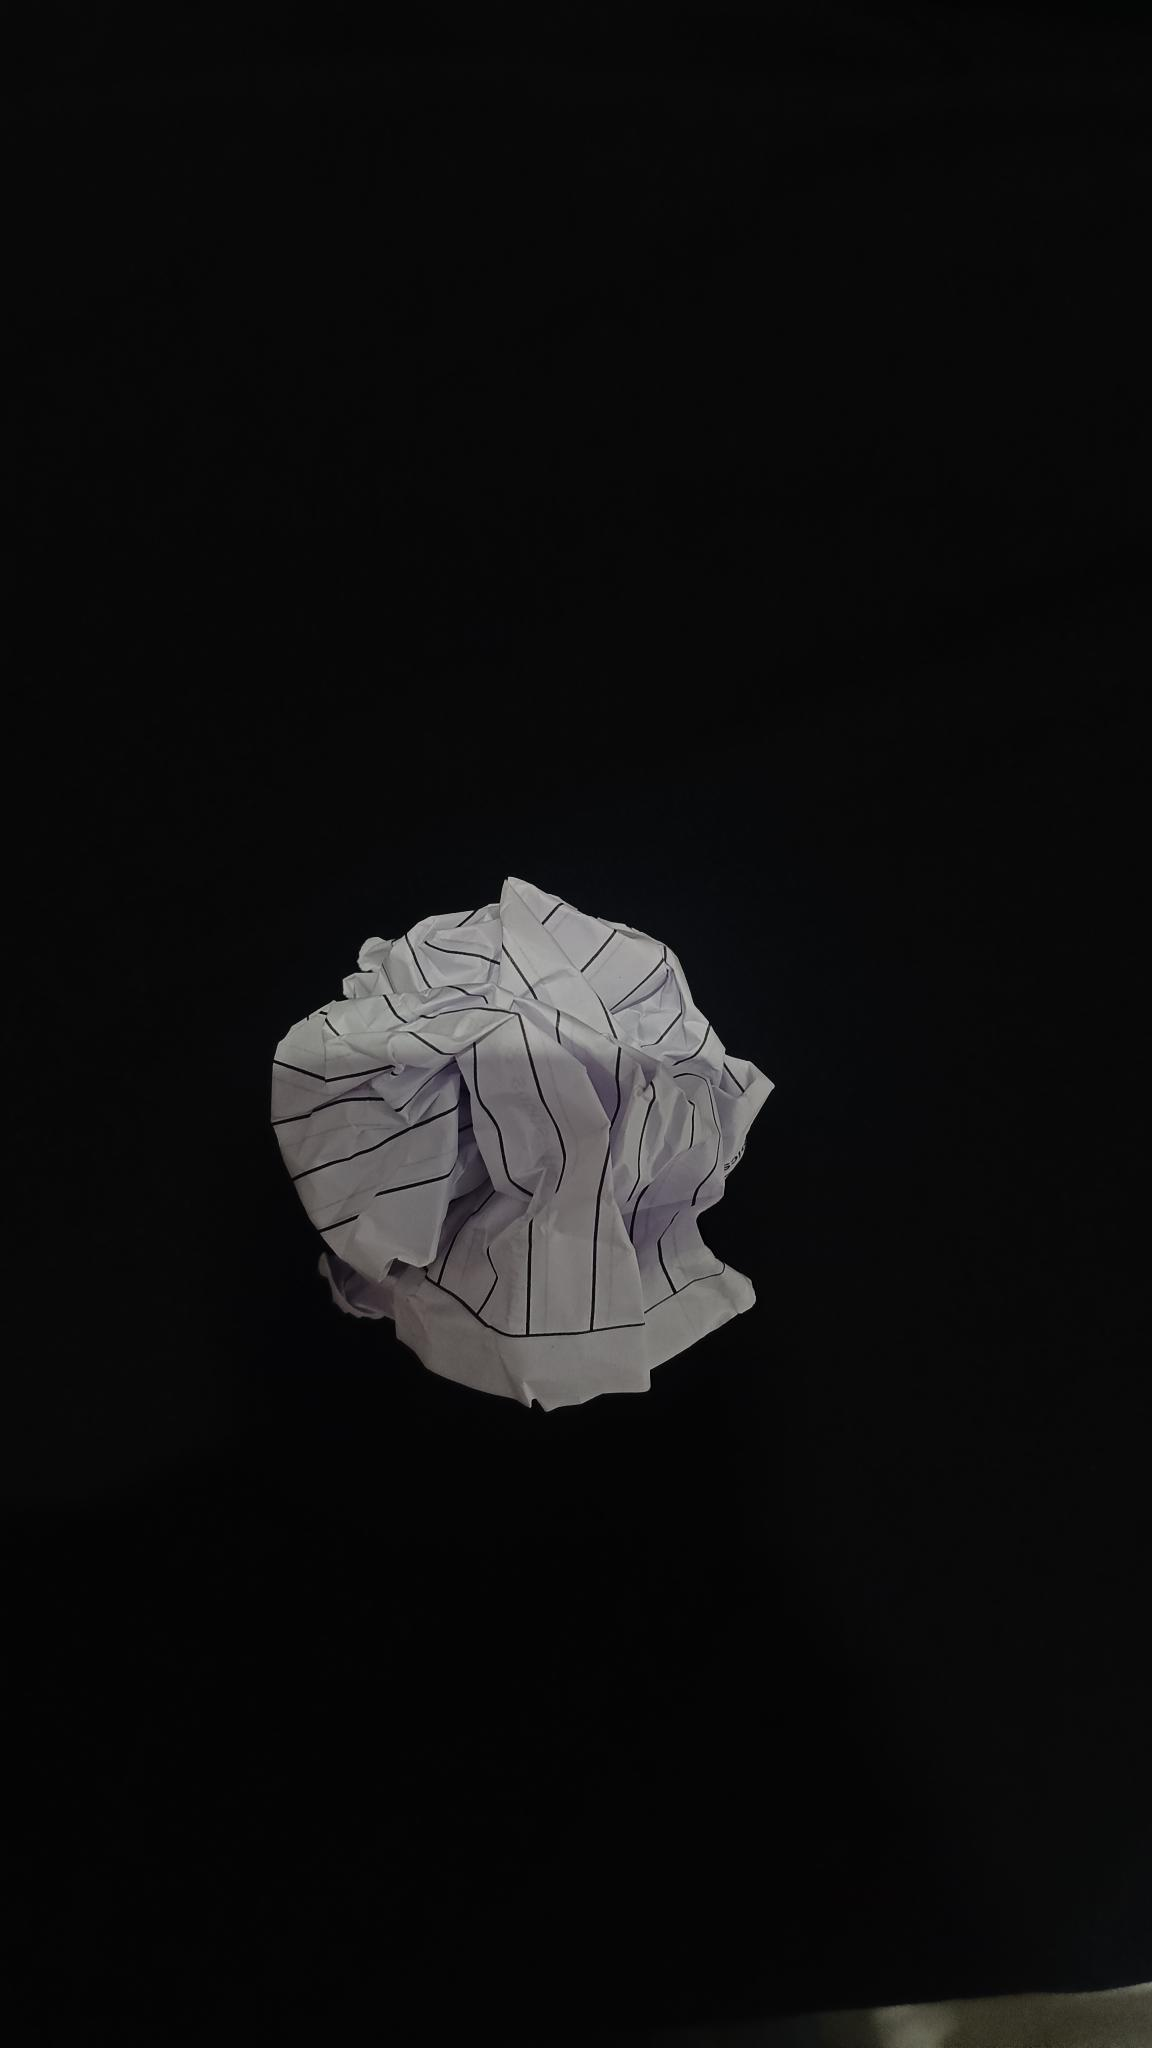PaperBall: (269, 878, 775, 1398)
